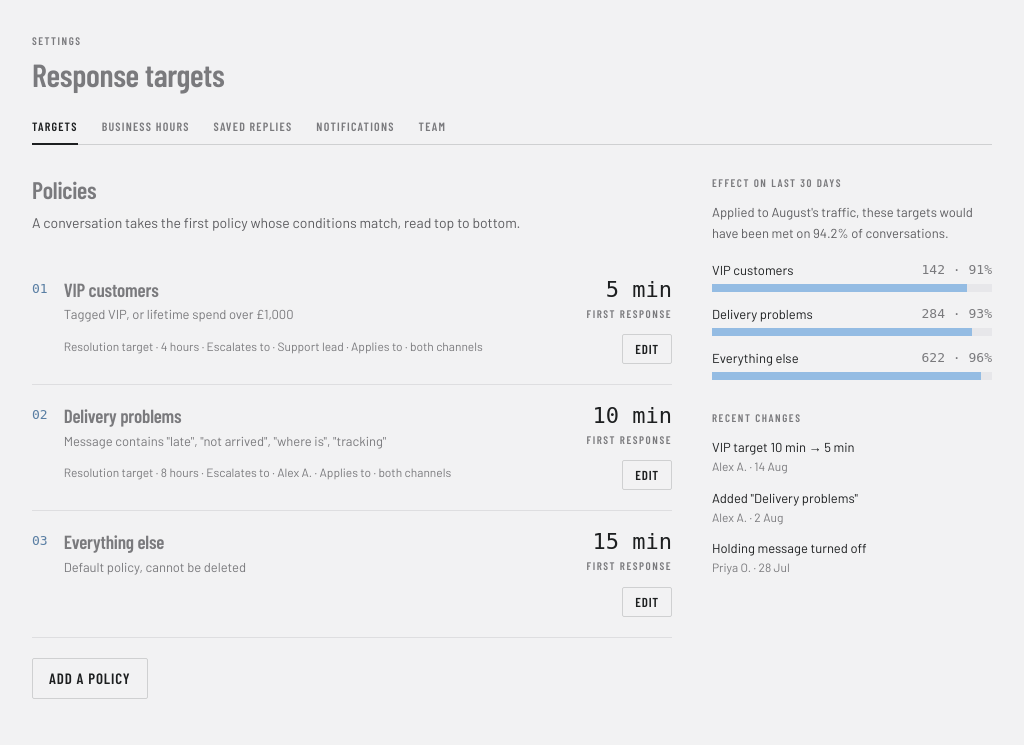
Scenario: SettingsPage › adds a policy above the default one, which must stay last
The image size is (1024, 745).
Click the button "Add a policy": (90,678) [32, 658, 148, 699]
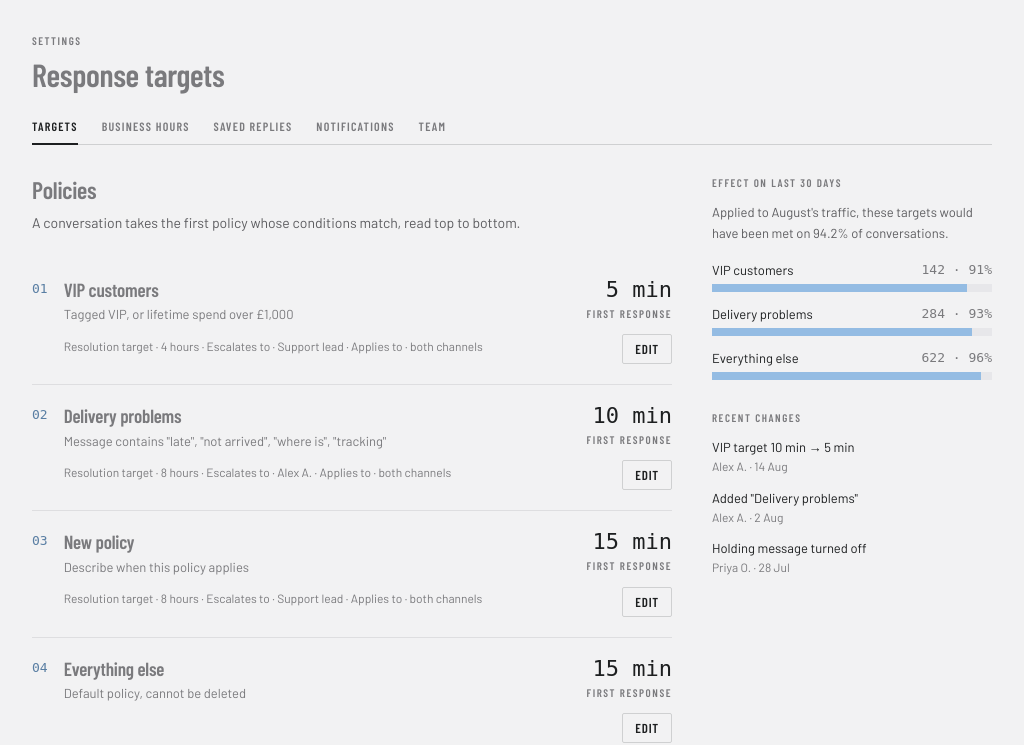
Expected: the heading "Everything else" is shown, [64, 657, 164, 680]
Now the heading "New policy" is shown, box [64, 530, 134, 554]
